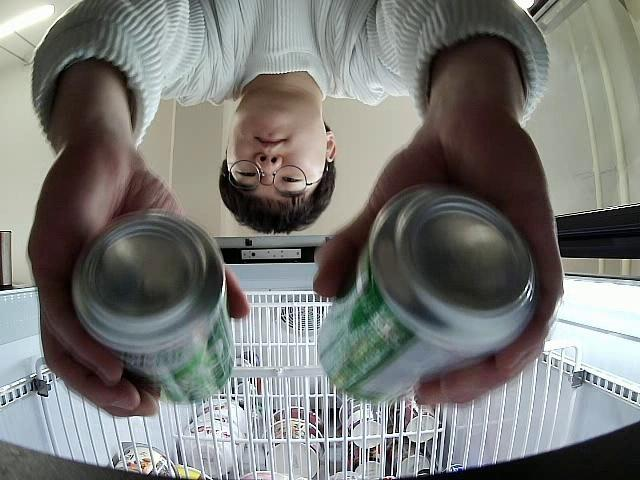12_chilsungCider: (316, 180, 538, 405), (71, 208, 237, 406)
